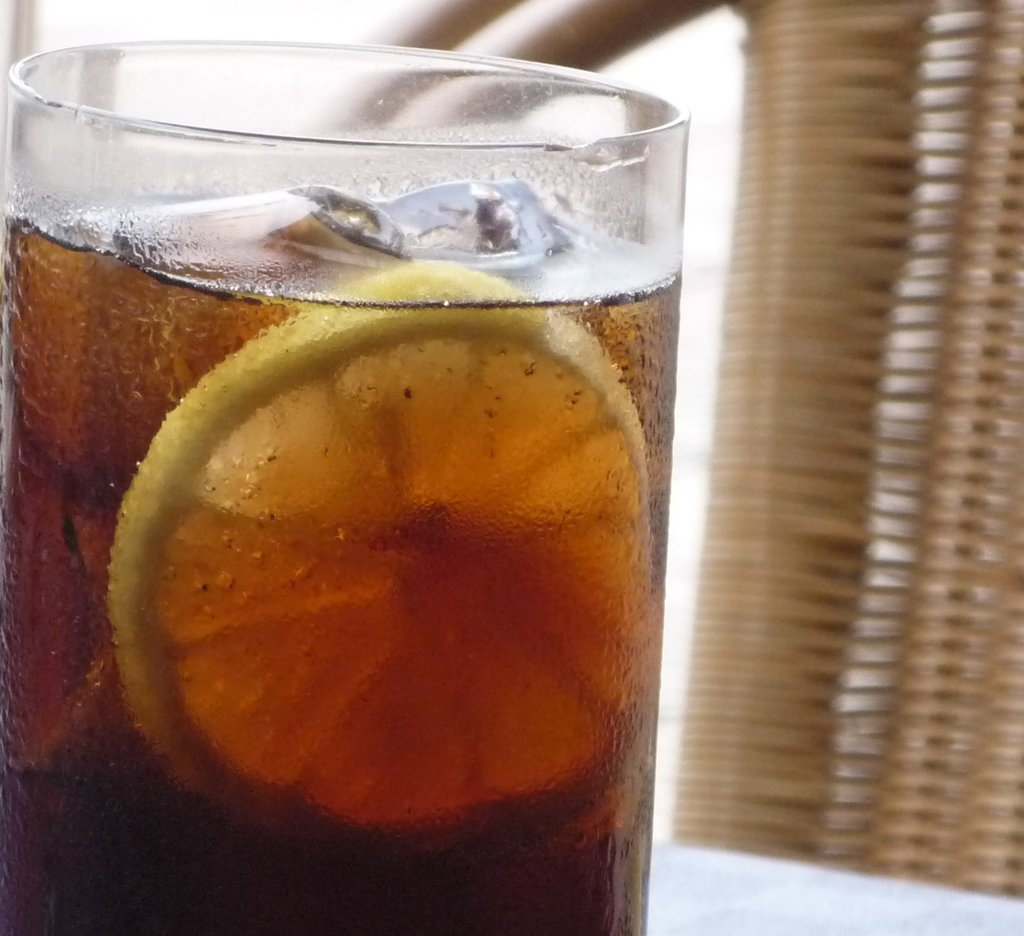Beer: (0, 42, 692, 935)
